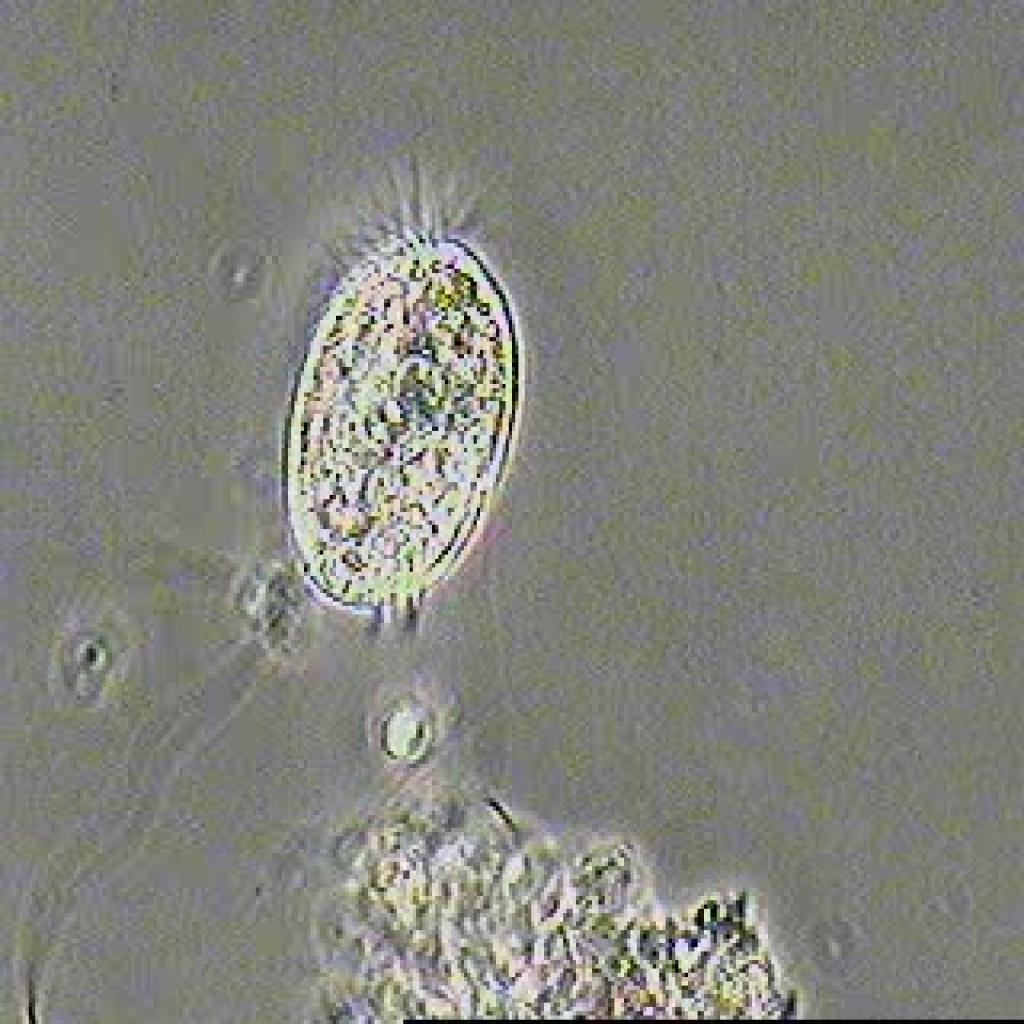Chilodonella: (186, 139, 550, 676)
